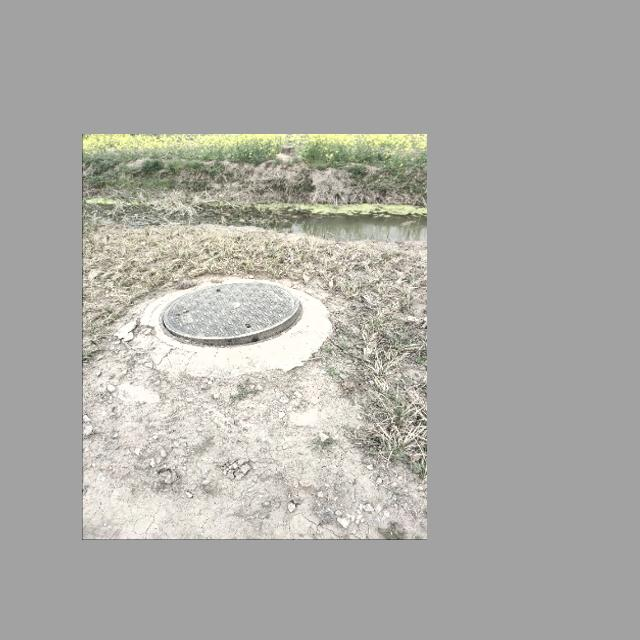good: (157, 282, 302, 346)
